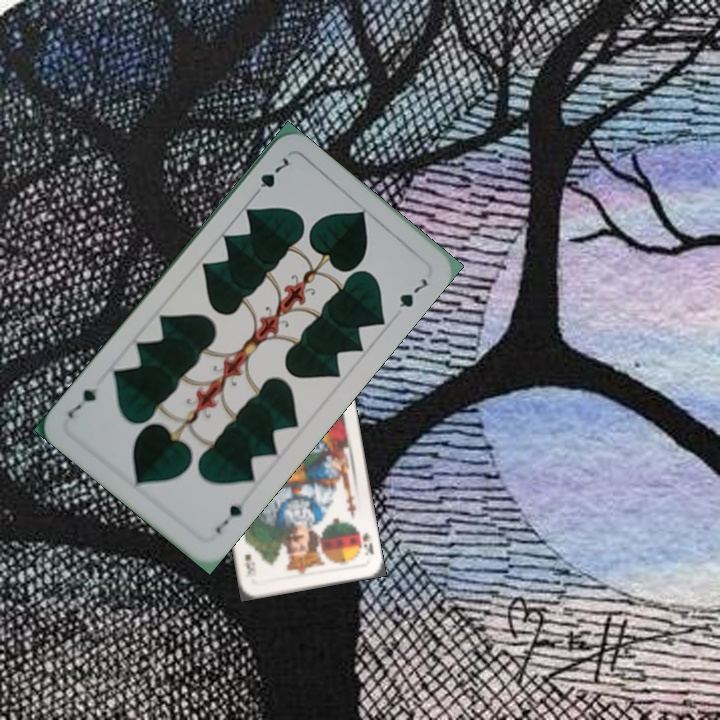G7: (249, 153, 294, 201), (211, 500, 245, 537)
SK: (354, 527, 376, 557)
